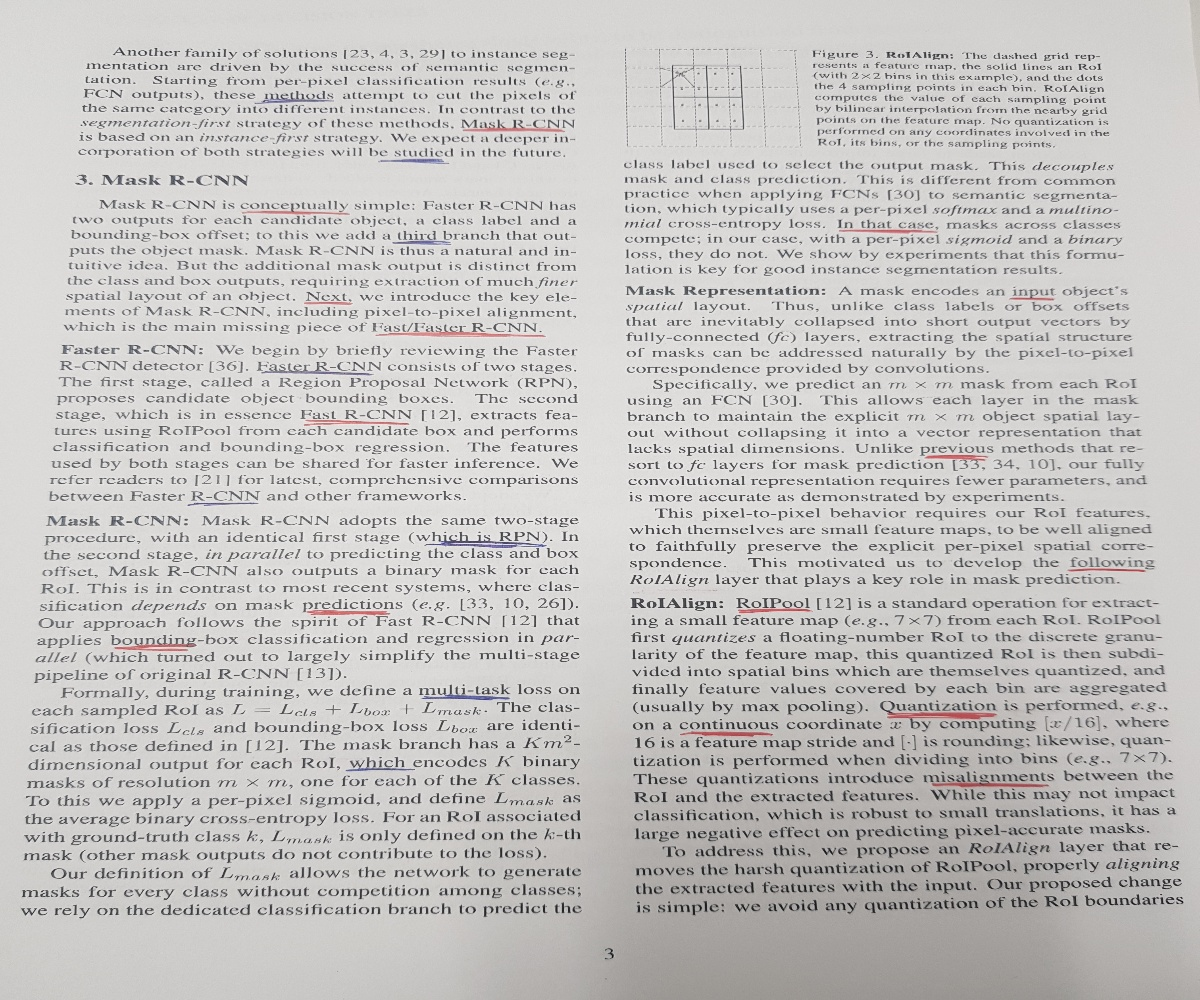underline: (370, 329, 547, 340), (423, 539, 550, 551), (928, 779, 1051, 791), (259, 366, 375, 377), (420, 691, 515, 703), (239, 208, 352, 218), (885, 710, 998, 720), (835, 226, 937, 237), (301, 416, 410, 426), (374, 155, 454, 168), (734, 604, 812, 617), (676, 728, 774, 738), (302, 607, 389, 618), (112, 642, 198, 653), (463, 126, 571, 134), (1065, 564, 1147, 574), (920, 452, 991, 462), (344, 764, 417, 773), (187, 498, 258, 507), (258, 97, 337, 105), (301, 298, 353, 308), (391, 238, 451, 245), (1008, 295, 1055, 303)
